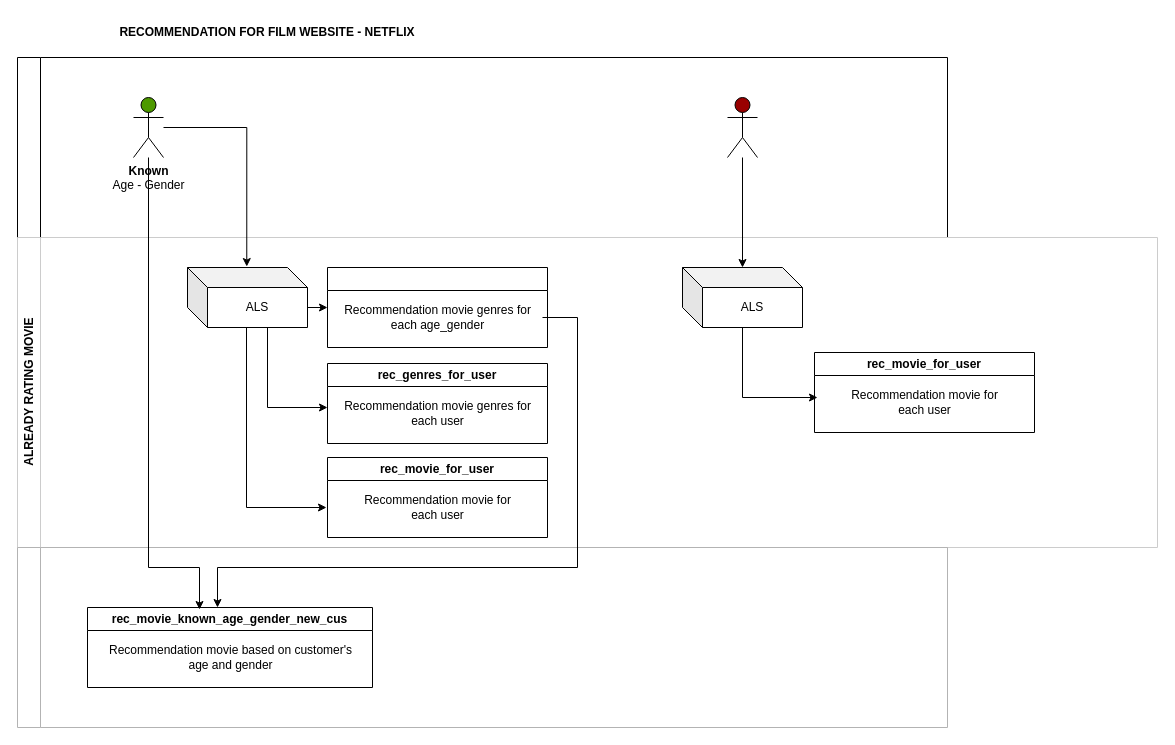
Image size: 1175x745. Some labels were removed from this diagram. Each missing label, with the box of its shape:
CUSTOMER TYPES: (16, 56, 948, 238)
NOT YET RATING MOVIE: (16, 546, 948, 728)
rec_genres_for_age_gender: (326, 266, 548, 348)
Unknown Age - Gender: (726, 96, 758, 158)
